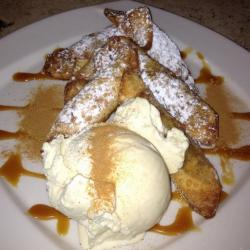apple_pie: (42, 17, 222, 147)
icecream: (41, 123, 172, 239)
